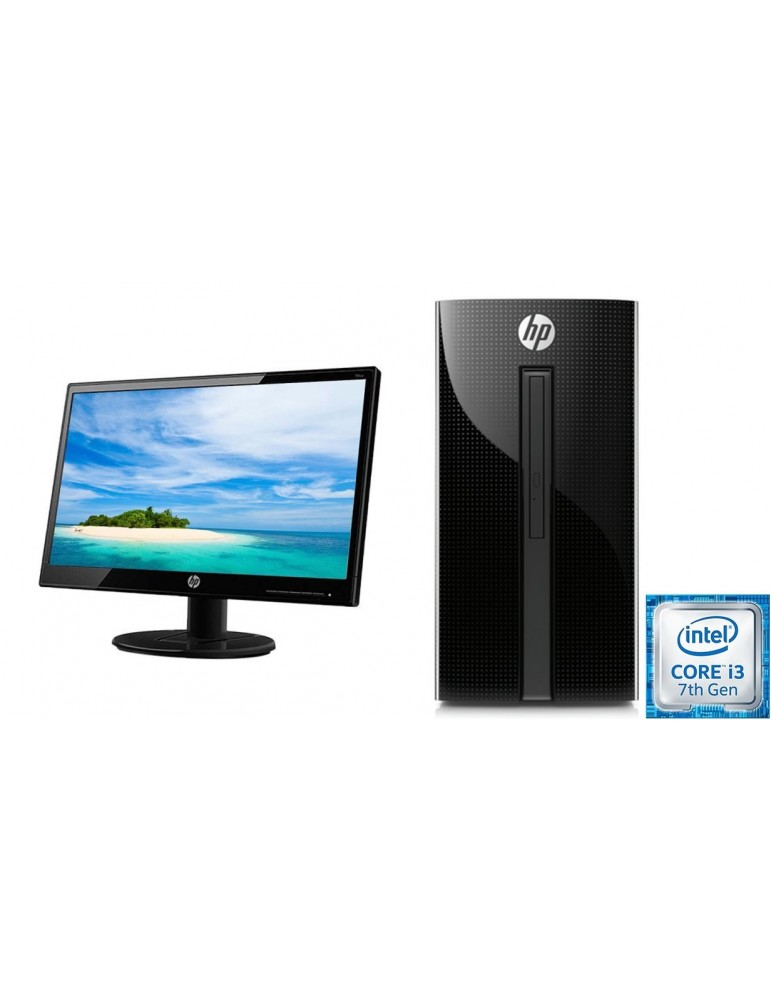hp-monitor-19ka: (27, 362, 376, 663)
